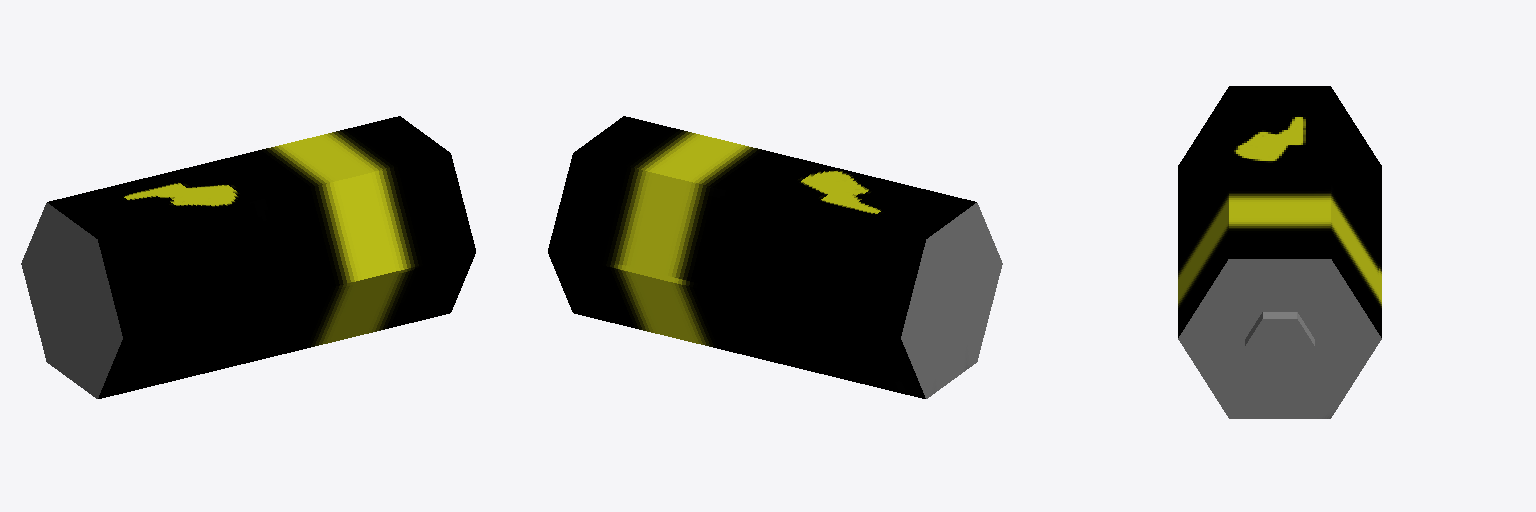
3 renders of one model, left to right at view 1: azimuth 30°, elevation 25°; view 2: azimuth 150°, elevation 25°; view 3: azimuth 270°, elevation 25°, orthographic.
Parts seen in each view (by area): view 1: Cylinder; view 2: Cylinder; view 3: Cylinder.
Part boxes in pixels (x1,y1,x2,y2): Cylinder: (21, 116, 475, 398); Cylinder: (548, 116, 1002, 398); Cylinder: (1178, 86, 1381, 418).
Size of the model in its own units: 4.16 by 1.73 by 2.
1 materials, 1 textured.